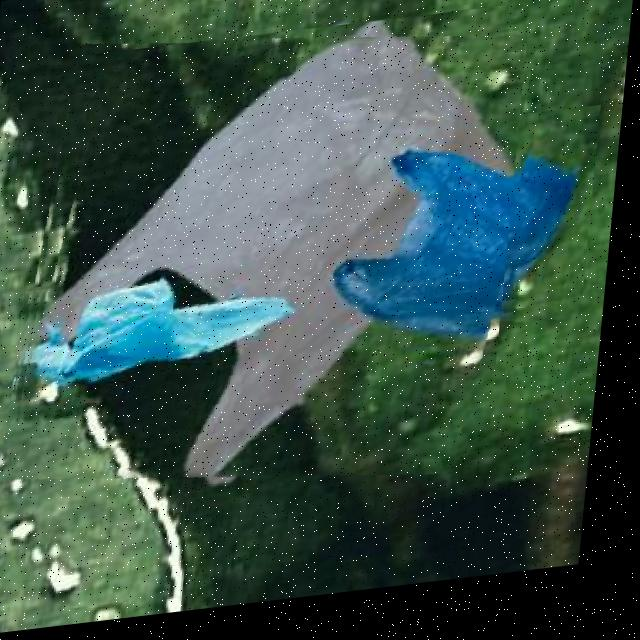litter: (11, 15, 531, 517), (304, 119, 604, 354), (16, 264, 301, 427)
